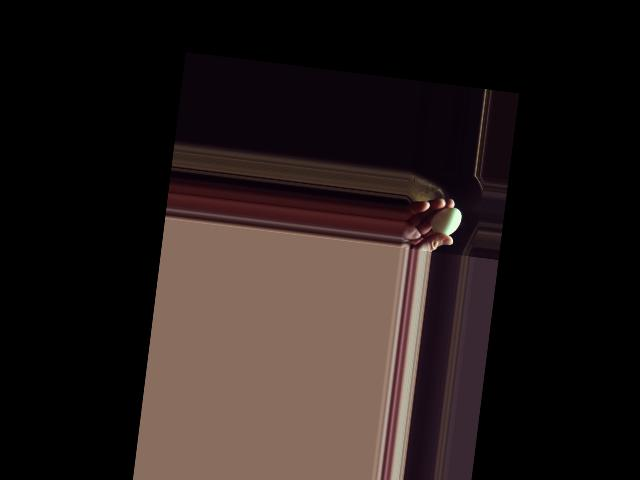egg: (429, 205, 462, 237)
